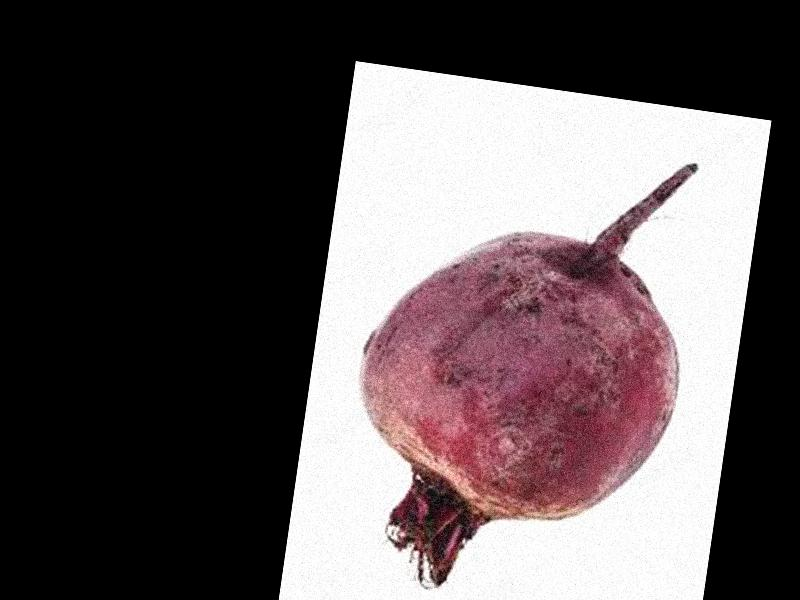Beet: (333, 121, 710, 600)
